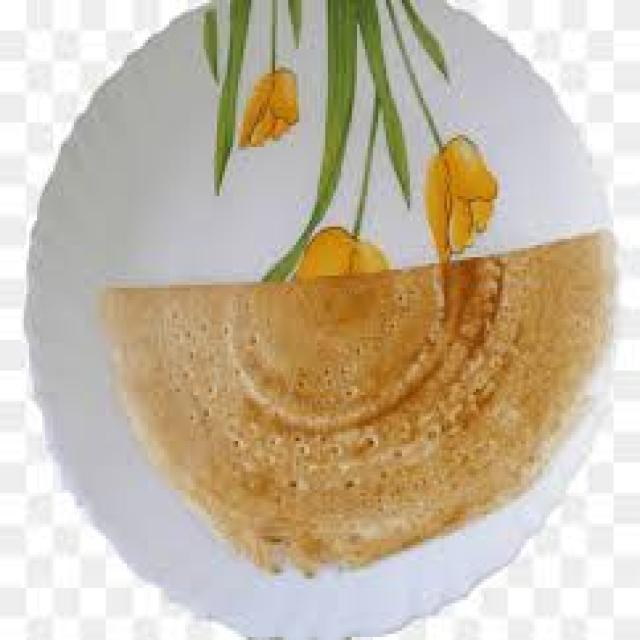DOSA: (103, 233, 621, 568)
